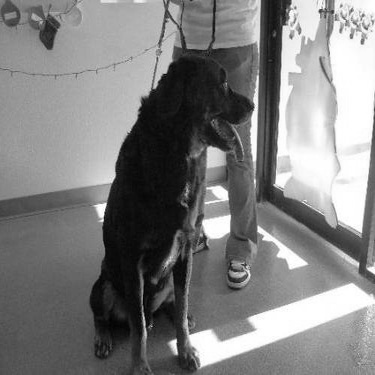dog: (83, 42, 262, 373)
